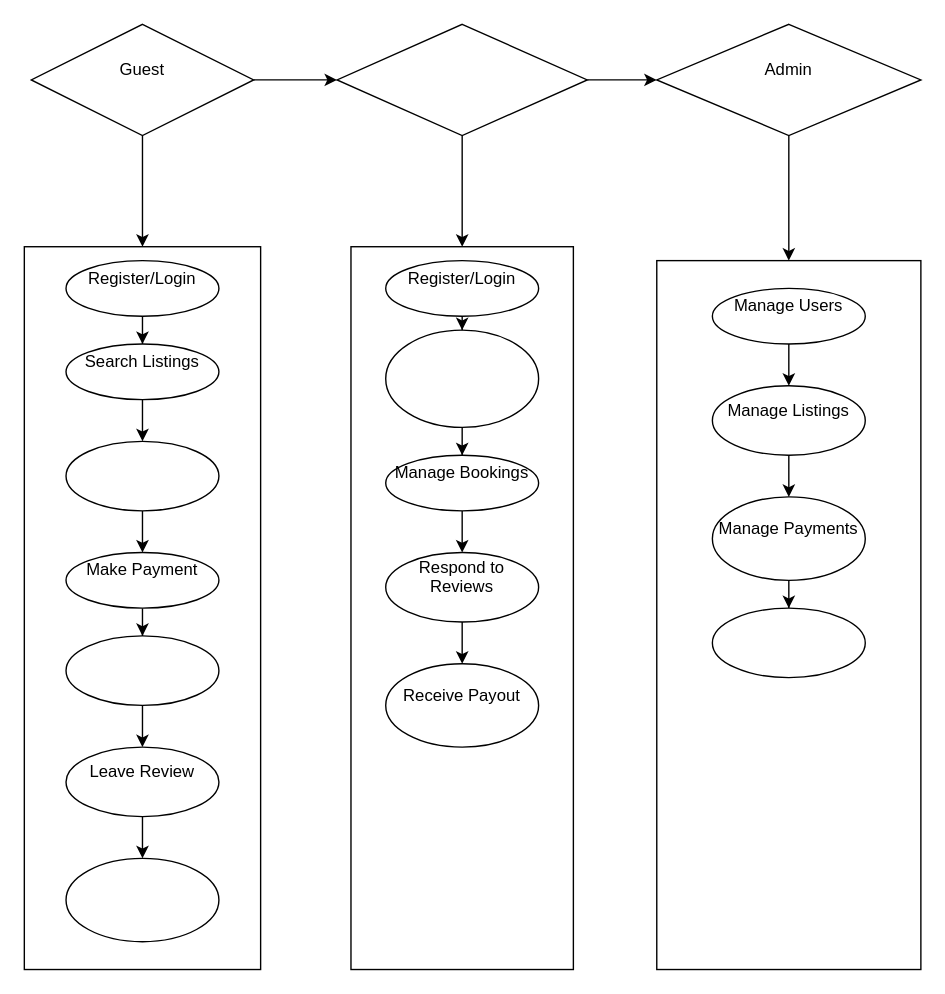
The diagram is 945 pixels wide and 994 high, and some of its shapes have lost their labels. Here are the shapes that lost their labels. From the top down, the centre of each, then its label:
At [461,79]: "Host".
At [461,378]: "Create/Edit/Delete Property".
At [142,475]: "Book Property".
At [788,642]: "View Reports".
At [142,670]: "Cancel Booking".
At [142,899]: "Receive Notifications".
